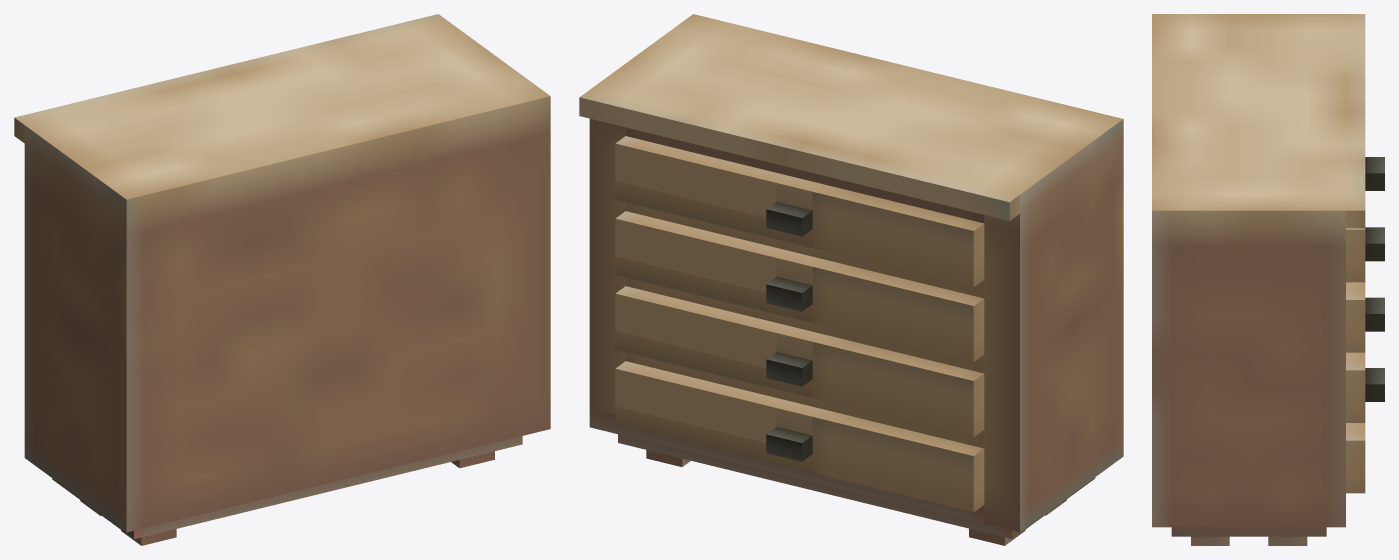
File: DresserWoodTiles_00.obj
3 renders of one model, left to right at view 1: azimuth 30°, elevation 25°; view 2: azimuth 150°, elevation 25°; view 3: azimuth 270°, elevation 25°, orthographic. The views are drawn at different scales.
Visible parts, largest first — view 1: DresserWoodTiles_00; view 2: DresserWoodTiles_00; view 3: DresserWoodTiles_00.
Boxes of the visible parts, x1,y1,x2,y2 form: DresserWoodTiles_00: (14,14,550,545); DresserWoodTiles_00: (579,14,1123,545); DresserWoodTiles_00: (1152,14,1384,545).
Size of the model in its own units: 1.2 by 1 by 0.6.
